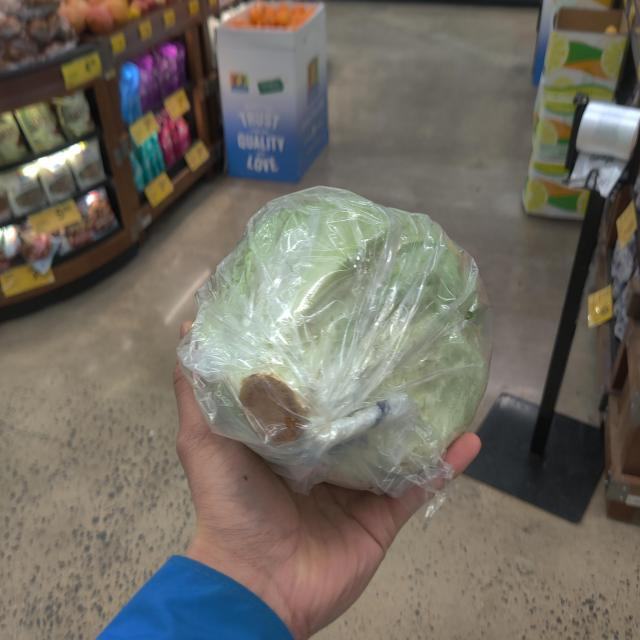Lettuce: (178, 184, 494, 489)
